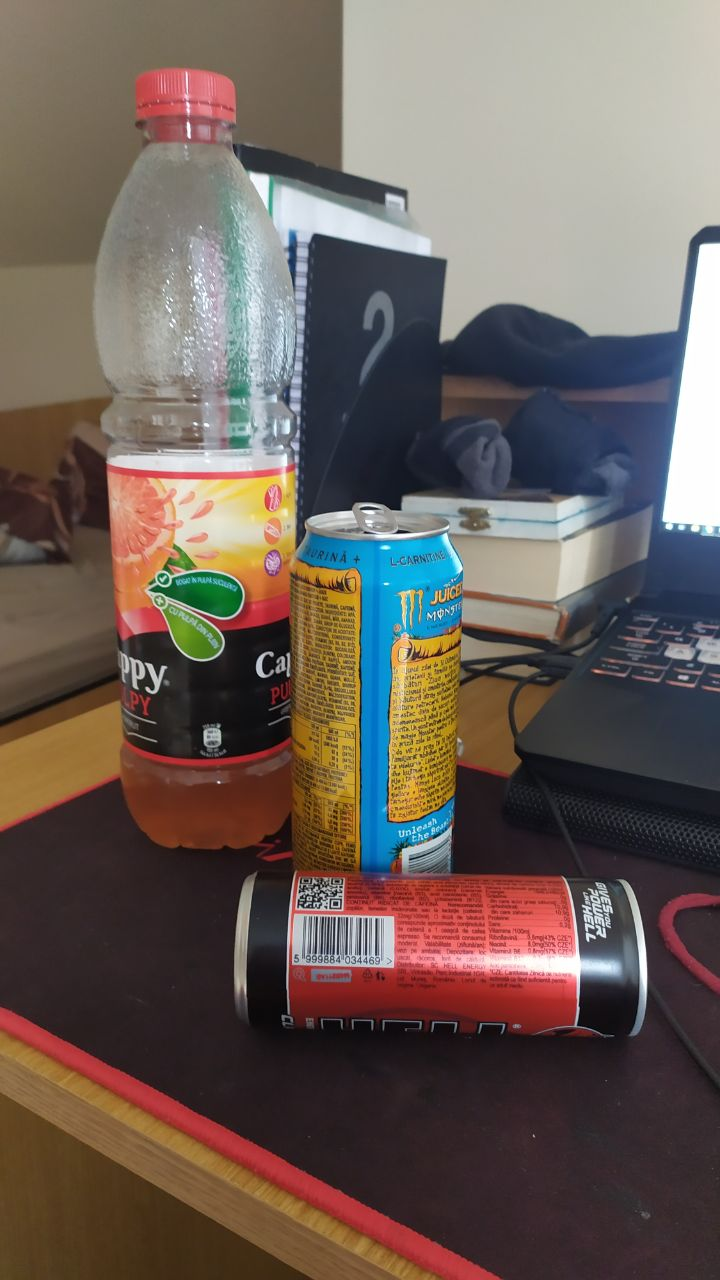Can: (235, 863, 651, 1039), (280, 505, 465, 872)
